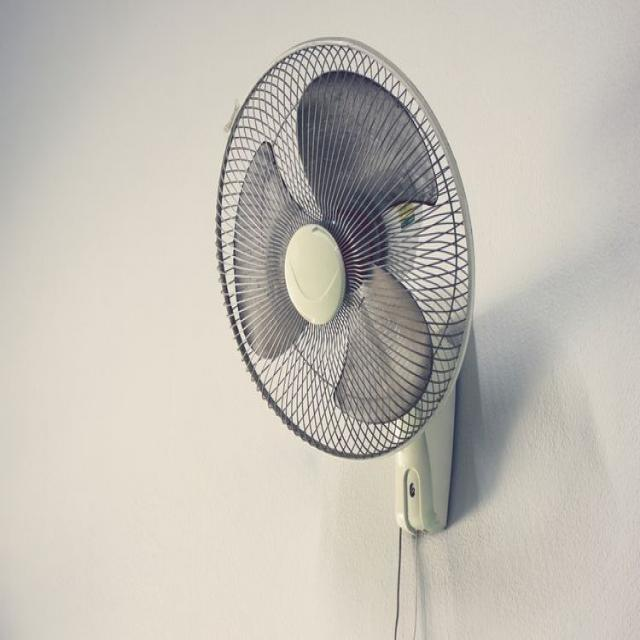fan: (212, 44, 472, 554)
